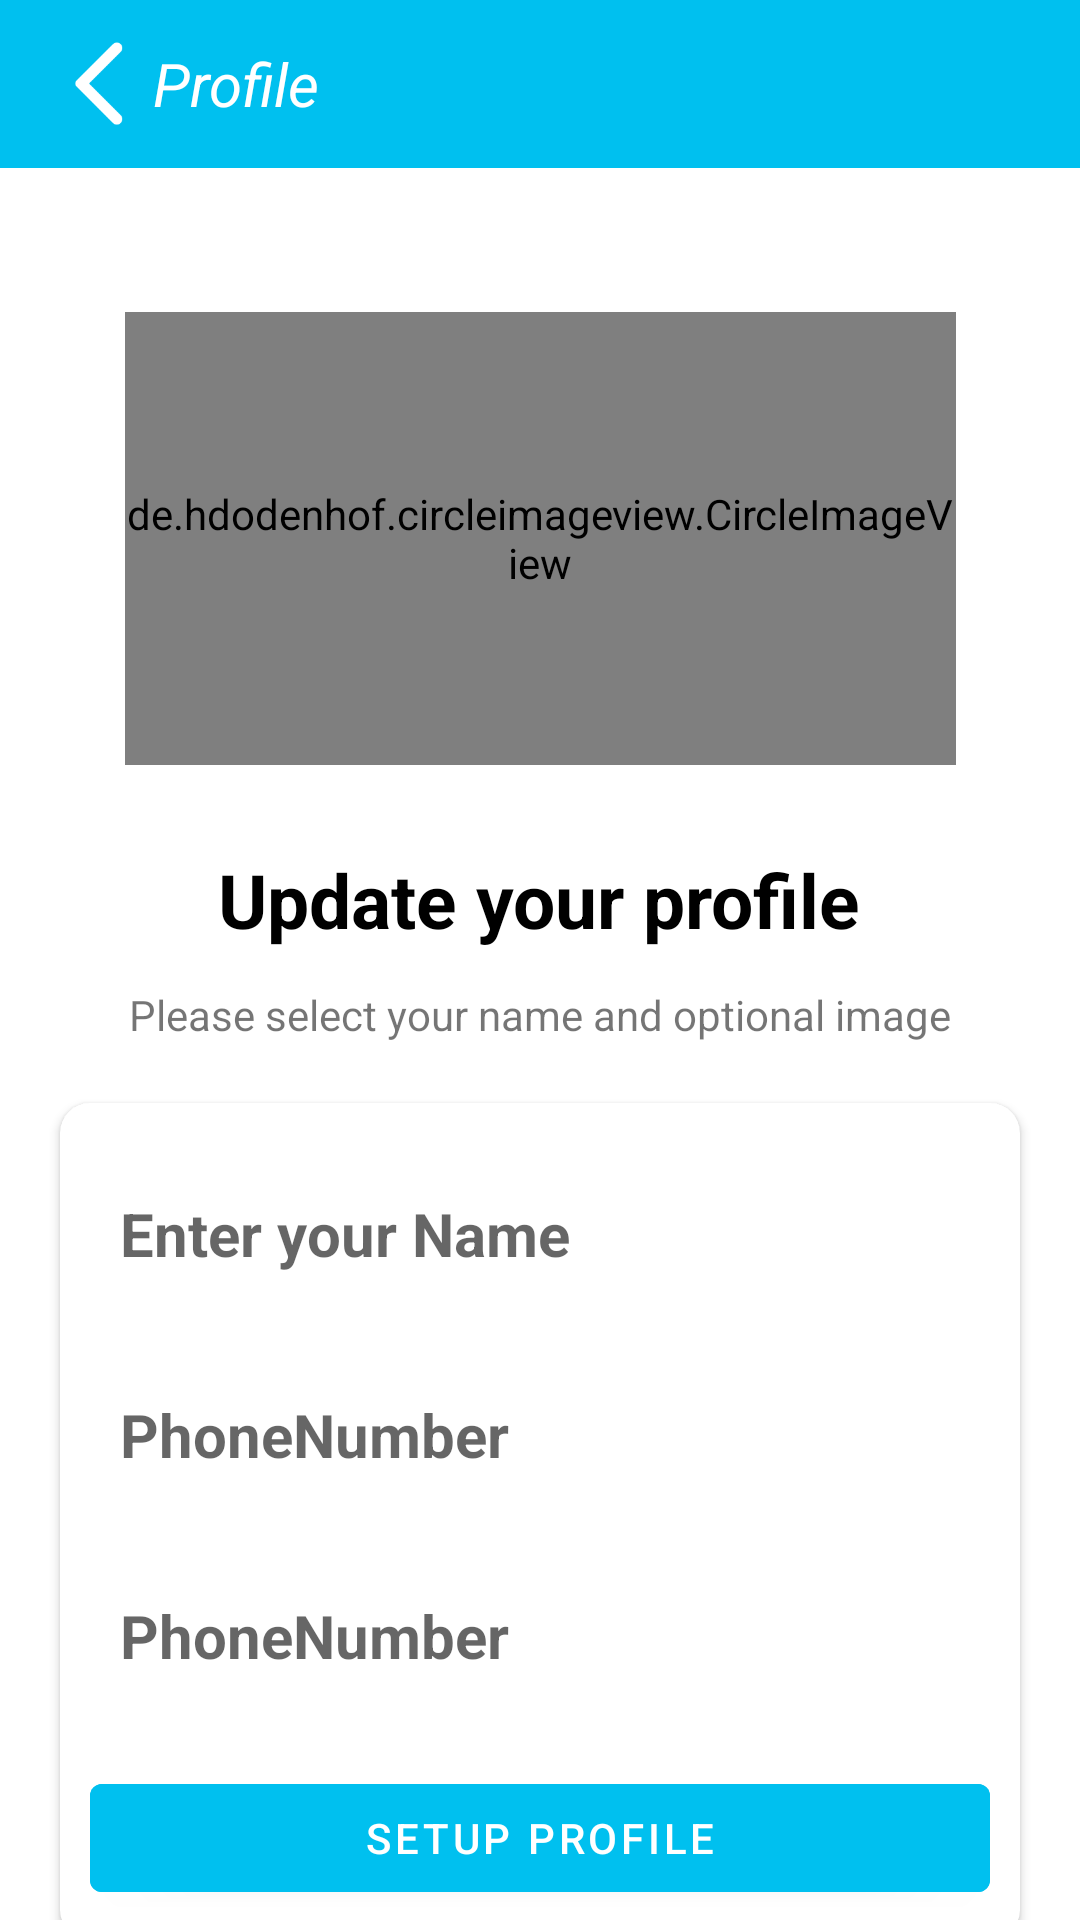

Screen size 1080 × 1920. Icon name, then its box in pixels as detection(x1, y1, x2, y2):
back arrow: detection(75, 42, 123, 125)
